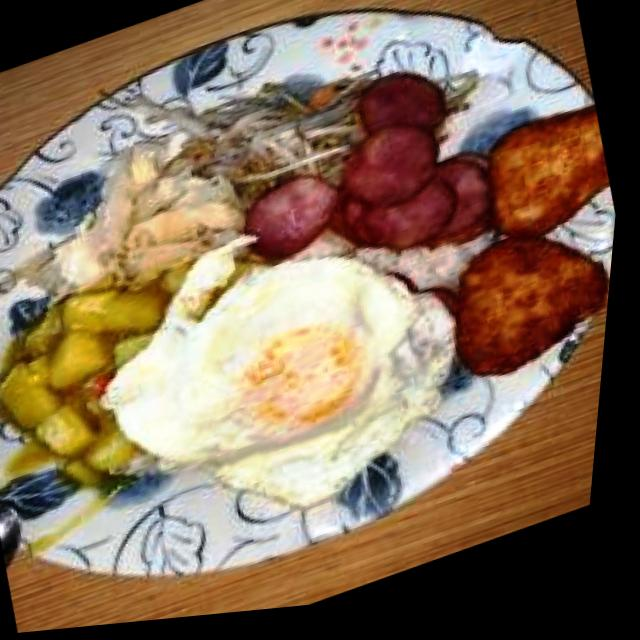Hashbrown: (433, 203, 616, 386), (467, 95, 623, 248)
chinese_sausage: (303, 42, 511, 276), (238, 164, 351, 278)
fried_eggs: (63, 166, 503, 577)
mung_bean_sprouts: (175, 51, 382, 223)
